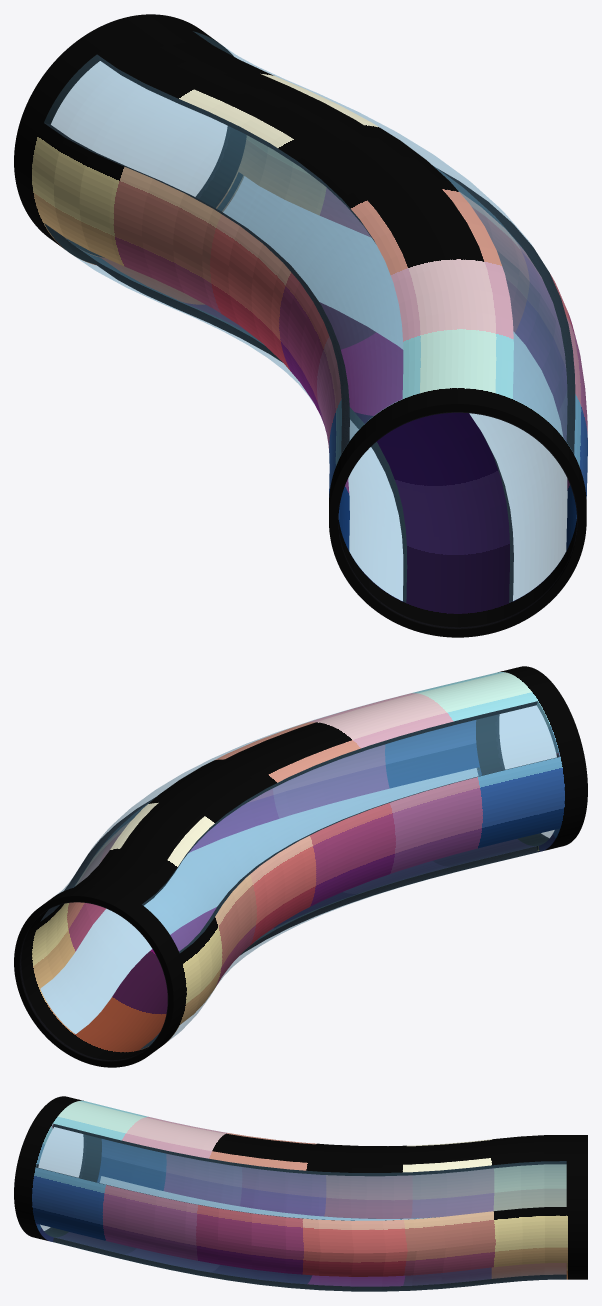
File: LD50-Pipe-R-01.glb
The picture shows the model from 3 angles, top to bottom: view 1: azimuth 30°, elevation 25°; view 2: azimuth 150°, elevation 25°; view 3: azimuth 270°, elevation 25°; orthographic projection. The views are drawn at different scales.
Visible parts, largest first — view 1: Pipe-R-01; view 2: Pipe-R-01; view 3: Pipe-R-01.
Part boxes in pixels (x1,y1,x2,y2): Pipe-R-01: (14,14,587,637); Pipe-R-01: (14,666,587,1067); Pipe-R-01: (14,1096,587,1291).
Bounding box in the file's own units: 59.45 × 32.2 × 128.
Materials: 2 (2 with a texture image).
